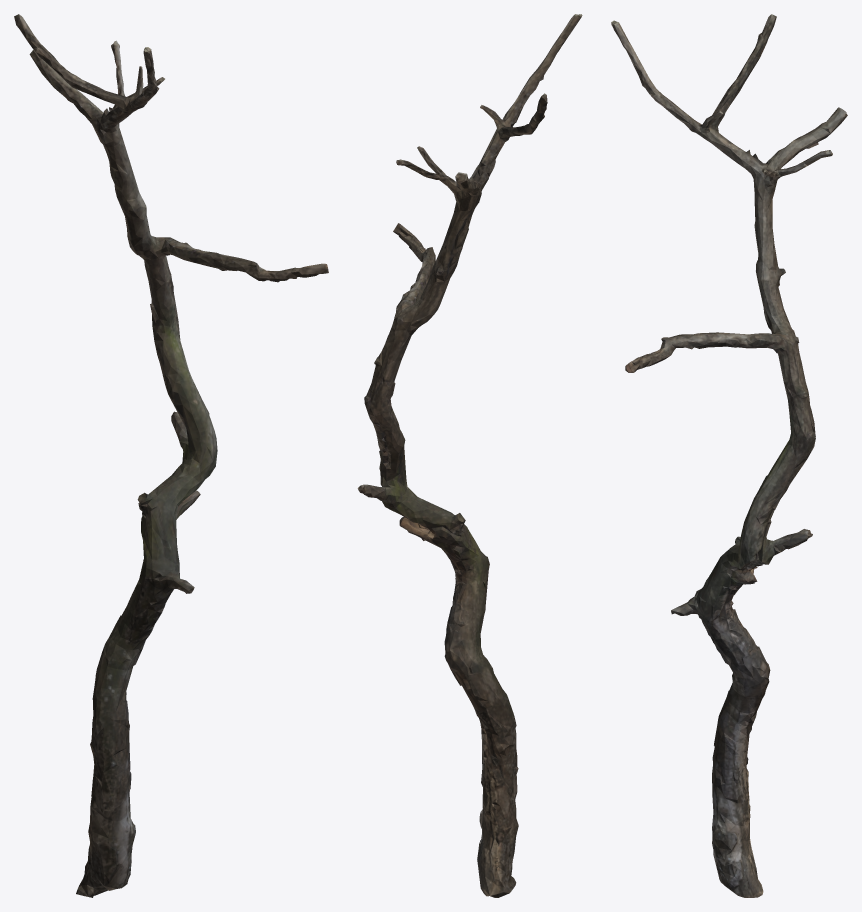
File: branches.glb
3 views of the same model, side by side, from view 1: azimuth 30°, elevation 25°; view 2: azimuth 150°, elevation 25°; view 3: azimuth 270°, elevation 25° (orthographic). The views are drawn at different scales.
Bounding box in the file's own units: 0.3599 × 1.3 × 0.3225.
Materials: 1 (1 with a texture image).
